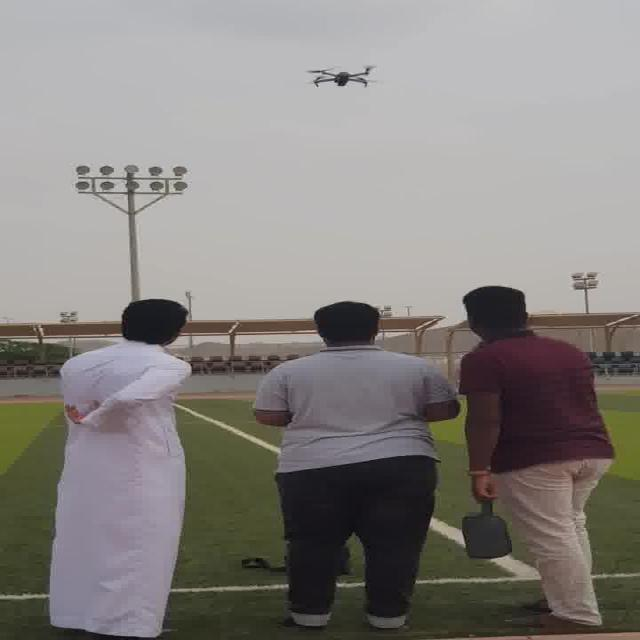drone: (290, 58, 392, 93)
